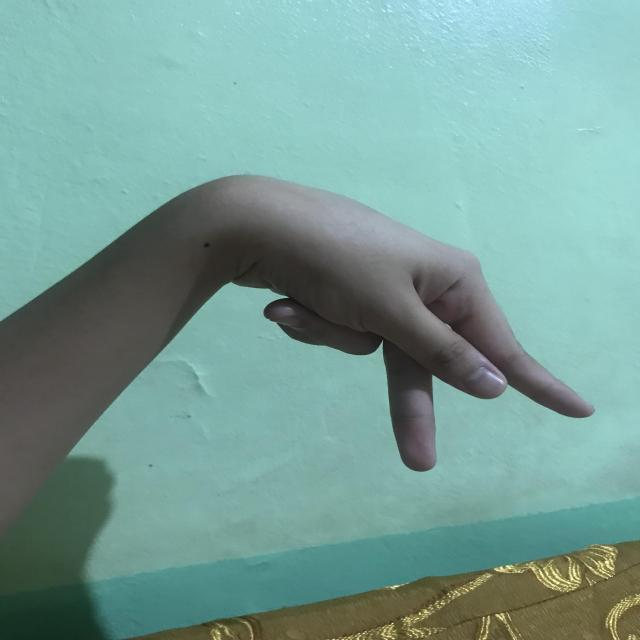P: (240, 168, 597, 474)
